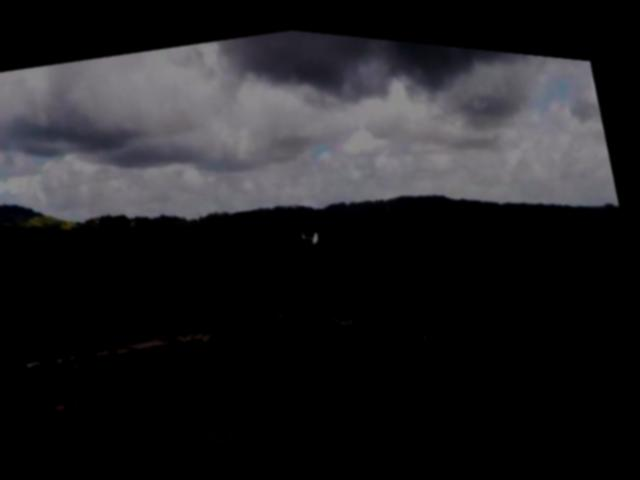iha: (300, 218, 328, 244)
